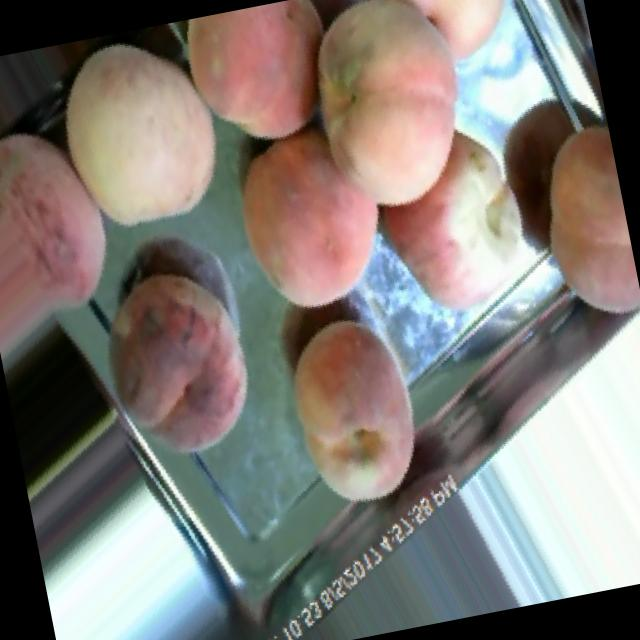Fruit: (15, 11, 274, 268), (261, 0, 514, 246), (57, 235, 290, 490), (349, 97, 562, 340), (0, 87, 165, 398), (252, 292, 460, 538), (202, 96, 410, 331), (157, 0, 370, 180), (500, 100, 640, 352)
